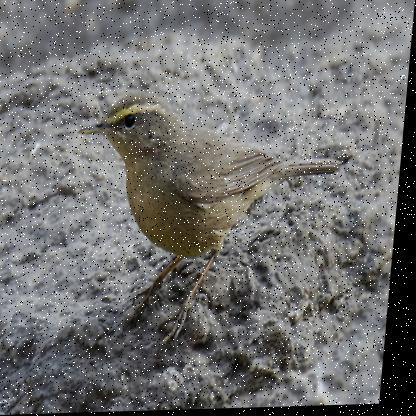Burung: (67, 92, 348, 336)
